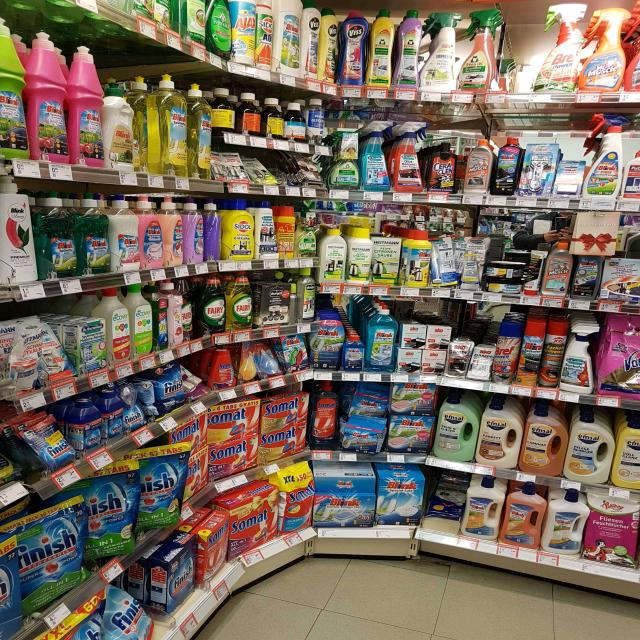empty: (485, 6, 553, 93)
